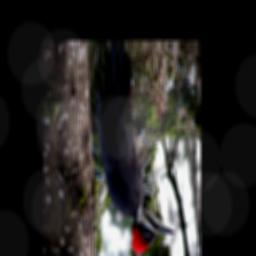Woodpecker: (91, 48, 178, 256)
